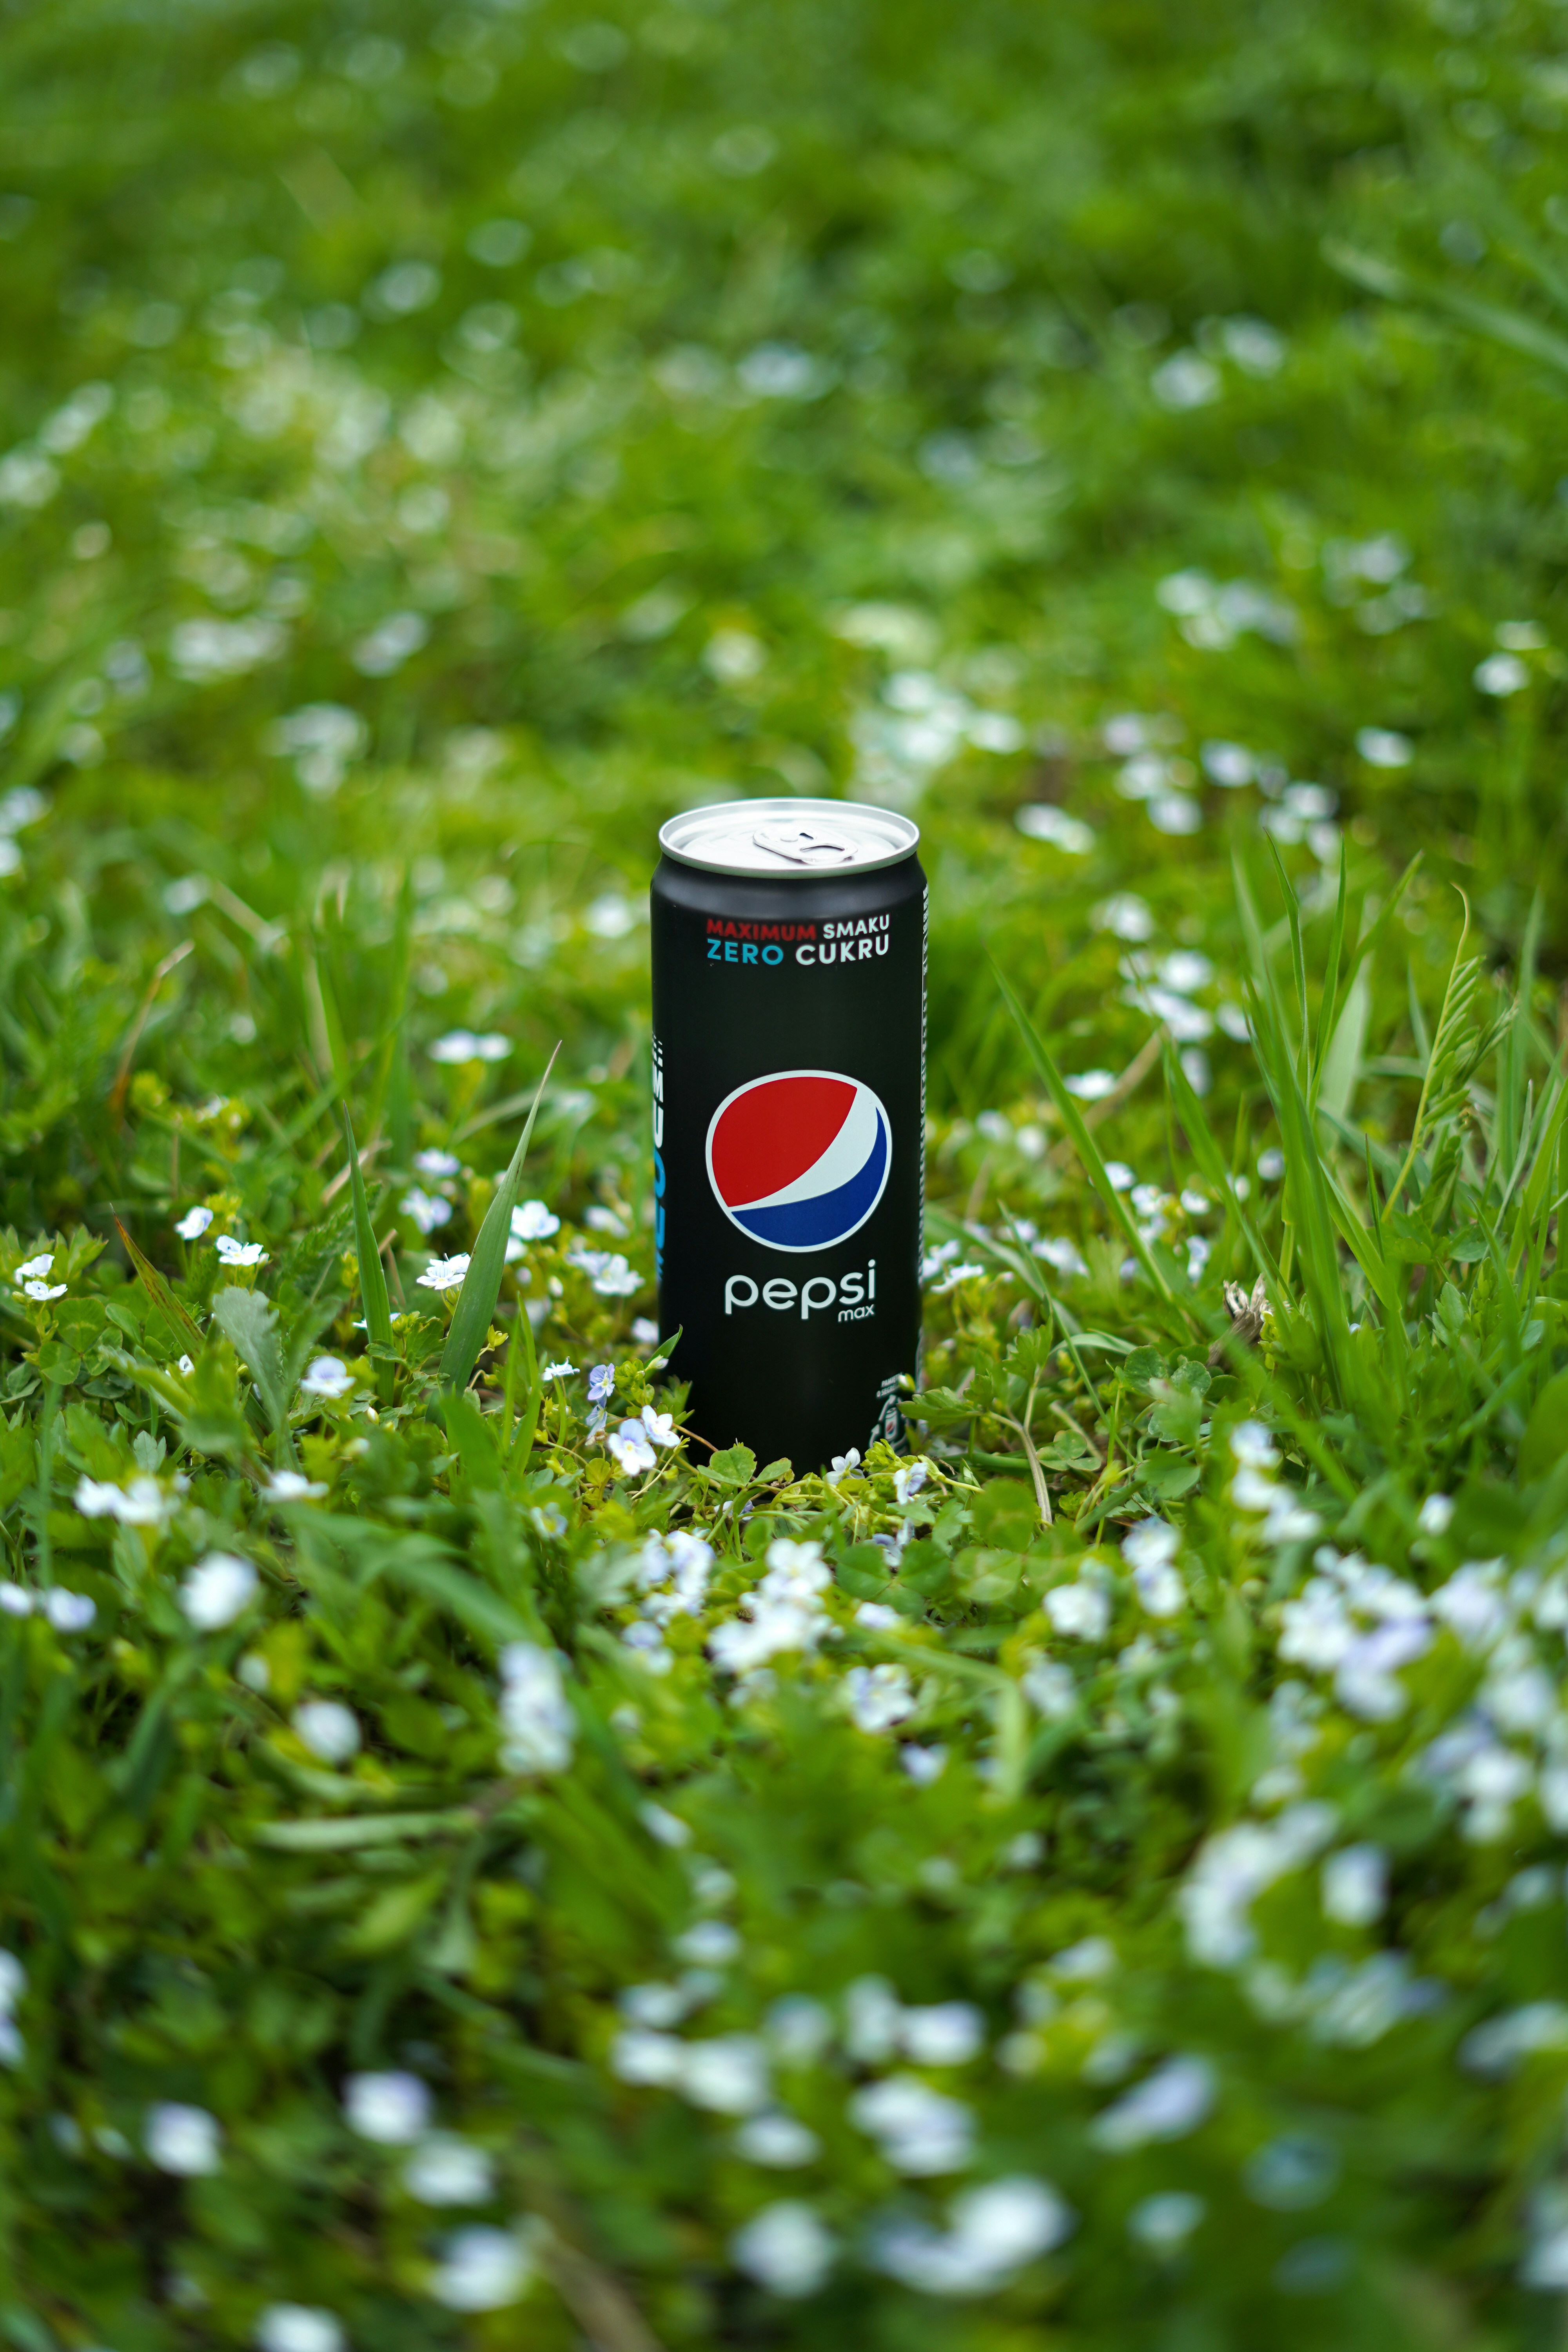PEPSI: (659, 839, 919, 1438)
